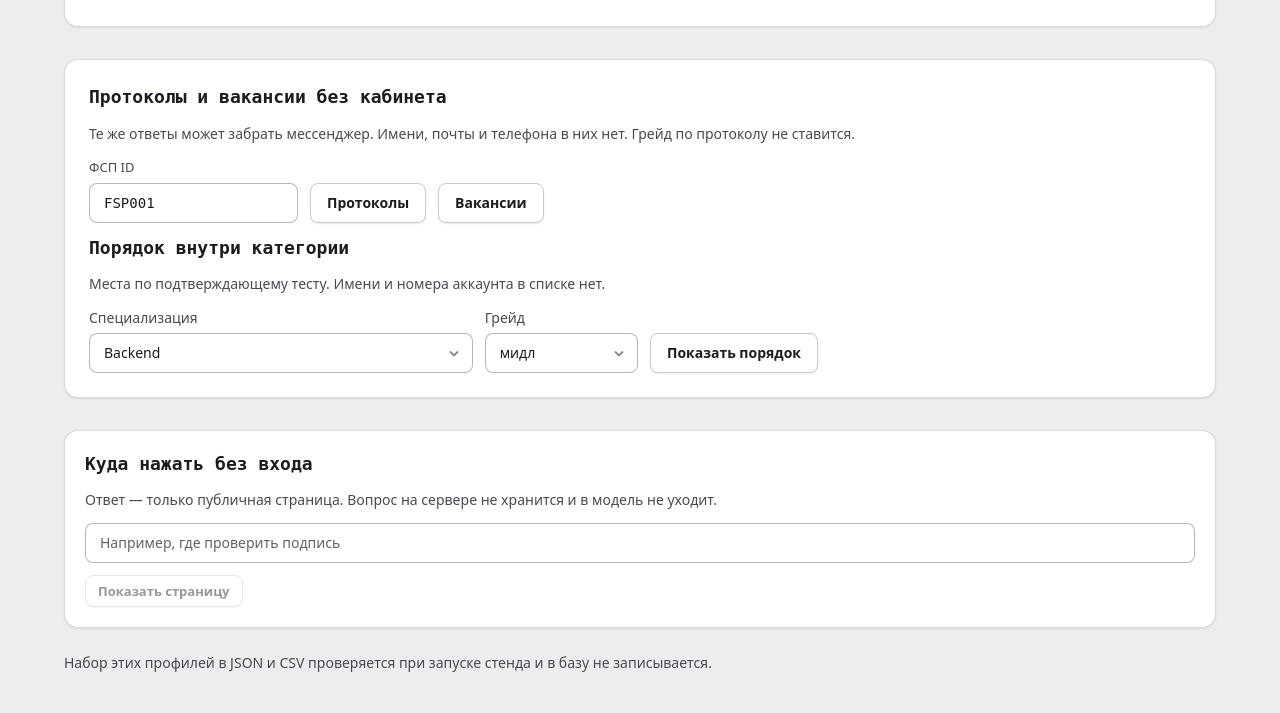
Test: канал без кабинета › объясняет пустой порядок порогом k-анонимности
(page scrolled)
What coordinates should you click on to do the following:
click the button "Показать порядок"
I would click on:
 (734, 353)
Its box is [650,333,818,373].
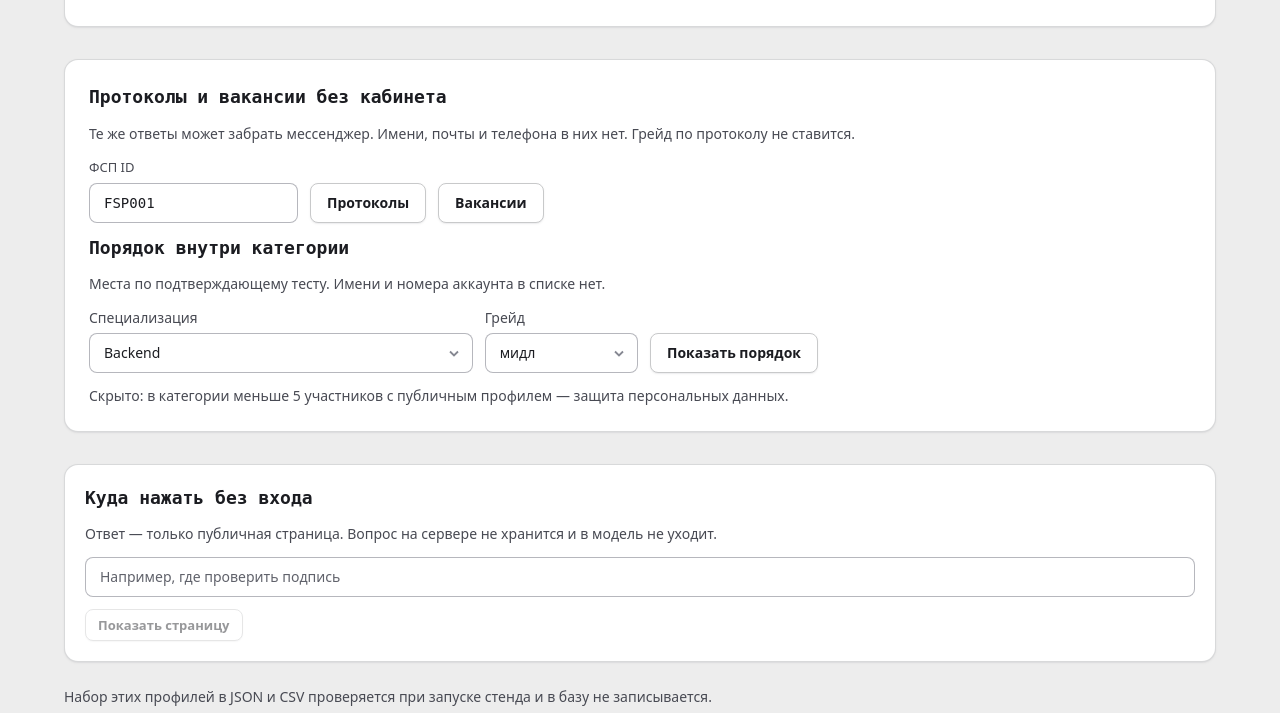
Result: the text "меньше 5 участников с публичным профилем — защита персональных данных" is shown at [89,386,788,405]
